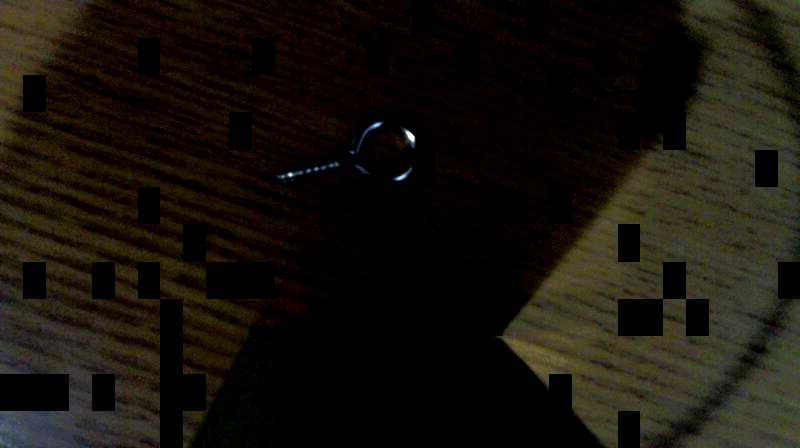O001: (267, 110, 430, 193)
